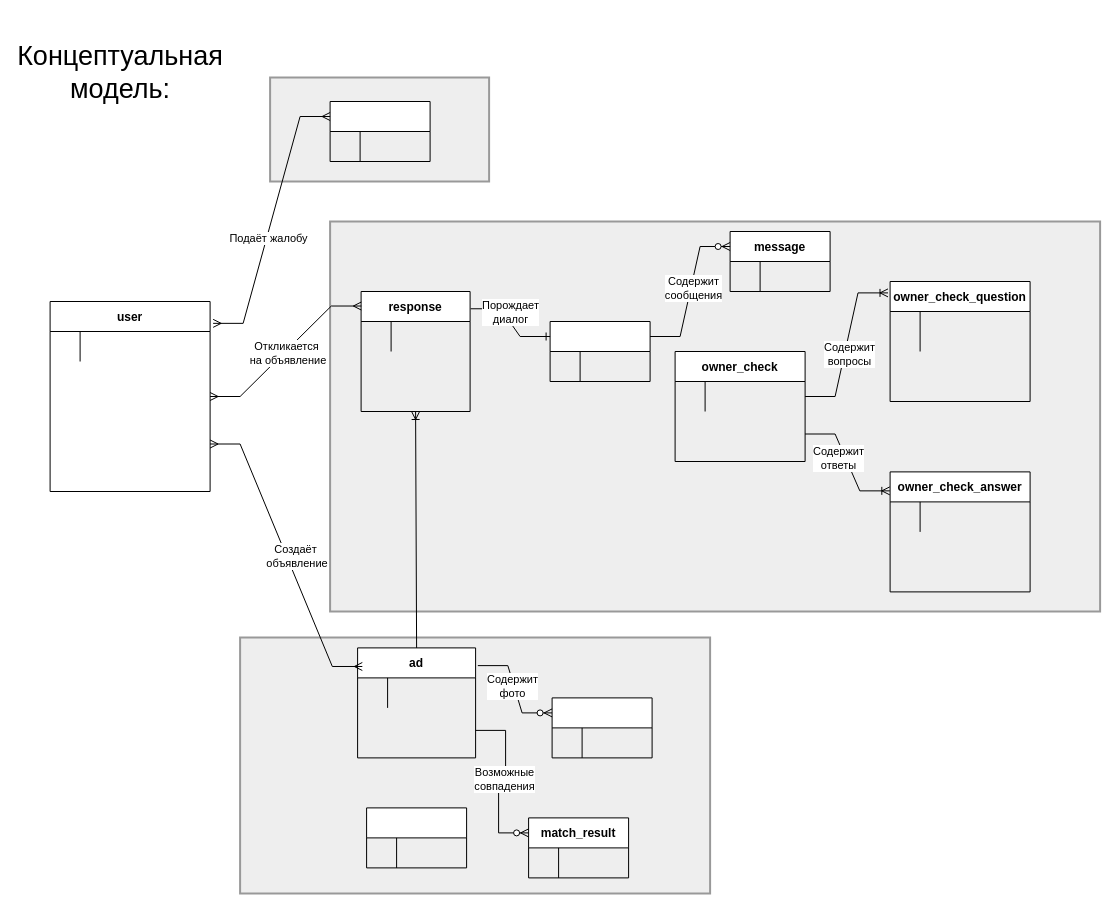
Some shapes in this 1118 by 911 pixel diagram are drawn without their labels. The centre of each missing label's shape, as x and y in pixels:
category: the point at 416,837
dialog: the point at 599,351
photo: the point at 601,727
report: the point at 379,131
